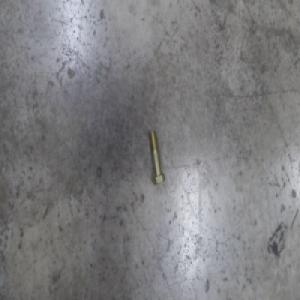Bolt: (148, 129, 165, 186)
